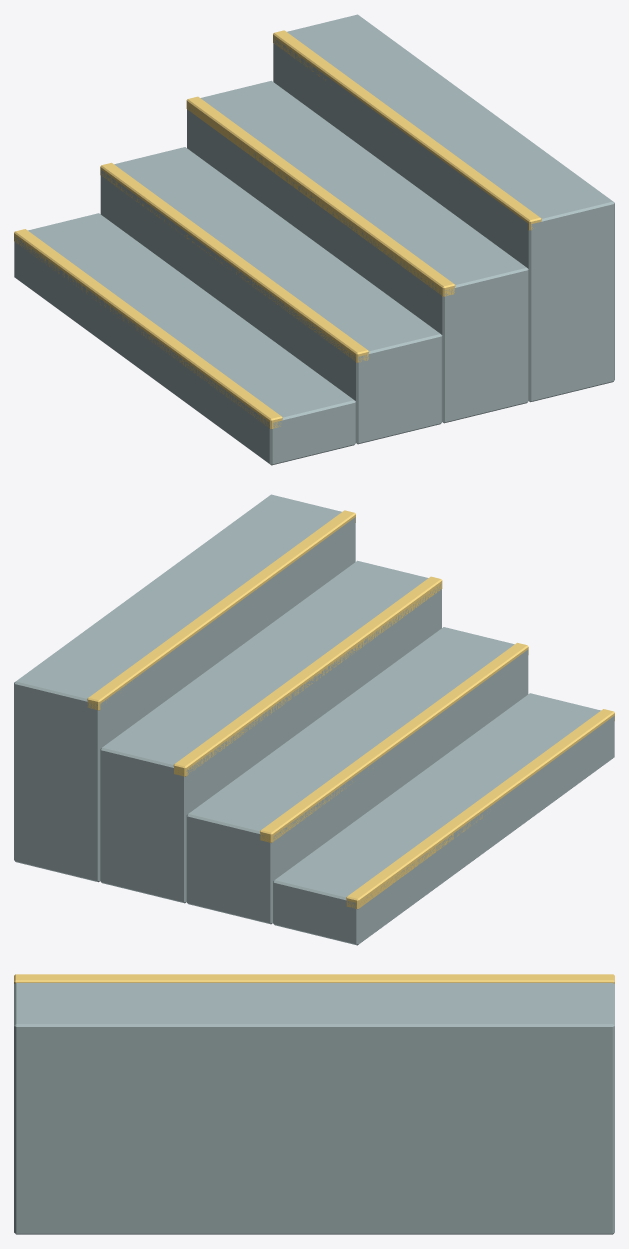
Rendered from Structure-SewerStep.fbx.
3 renders of one model, top to bottom at view 1: azimuth 30°, elevation 25°; view 2: azimuth 150°, elevation 25°; view 3: azimuth 270°, elevation 25°, orthographic. The views are drawn at different scales.
Parts seen in each view (by area): view 1: Tread and Riser.003, Tread and Riser.002, Tread and Riser.001, Tread and Riser, Step Nose.002, Step Nose, Step Nose.001, Step Nose.003; view 2: Tread and Riser.003, Tread and Riser.002, Tread and Riser.001, Tread and Riser, Step Nose.002, Step Nose, Step Nose.001, Step Nose.003; view 3: Tread and Riser.003, Step Nose.003.
Part boxes in pixels (<box>): Tread and Riser.003: <box>273,14,614,402</box>; Tread and Riser.002: <box>187,80,528,423</box>; Tread and Riser.001: <box>100,147,442,444</box>; Tread and Riser: <box>14,213,355,465</box>; Step Nose.002: <box>186,96,455,296</box>; Step Nose: <box>14,229,282,429</box>; Step Nose.001: <box>100,162,368,362</box>; Step Nose.003: <box>273,30,541,230</box>; Tread and Riser.003: <box>14,494,355,882</box>; Tread and Riser.002: <box>100,560,441,903</box>; Tread and Riser.001: <box>186,627,528,924</box>; Tread and Riser: <box>273,693,614,945</box>; Step Nose.002: <box>173,576,442,776</box>; Step Nose: <box>346,709,614,909</box>; Step Nose.001: <box>260,642,528,842</box>; Step Nose.003: <box>87,510,355,710</box>; Tread and Riser.003: <box>14,983,614,1234</box>; Step Nose.003: <box>14,974,614,983</box>.
Size of the model in its own units: 1.2 by 0.606 by 1.55.
